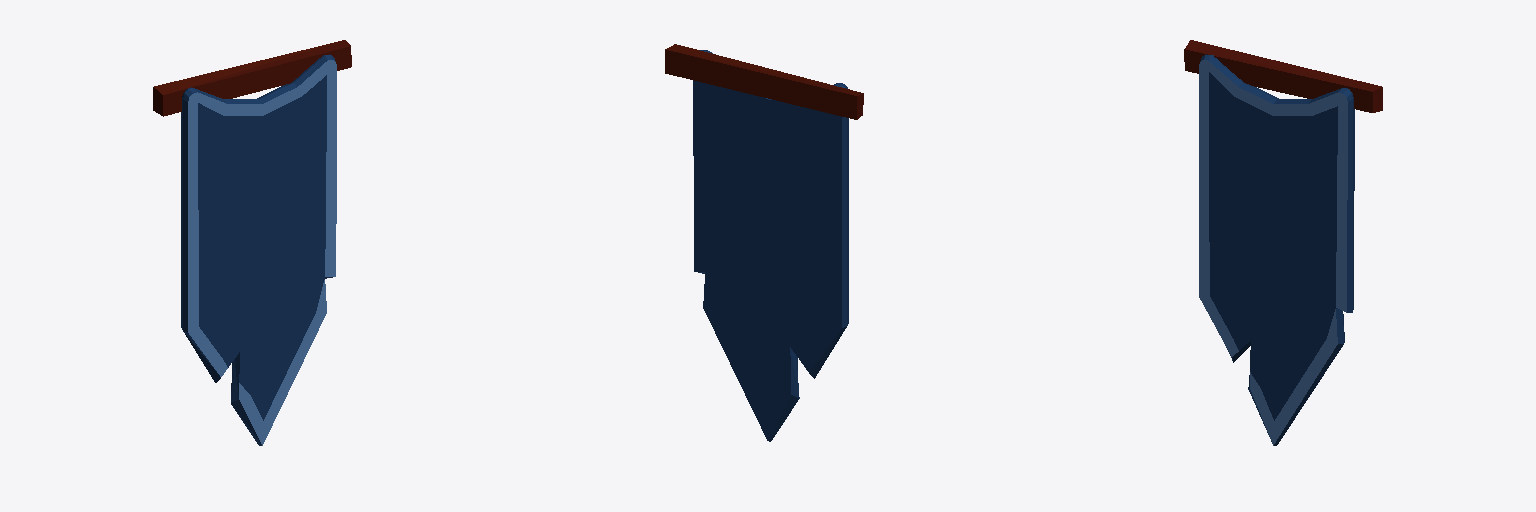
File: banner.obj
3 views of the same model, side by side, from view 1: azimuth 30°, elevation 25°; view 2: azimuth 150°, elevation 25°; view 3: azimuth 330°, elevation 25° (orthographic).
Parts seen in each view (by area): view 1: banner_Plane.004; view 2: banner_Plane.004; view 3: banner_Plane.004.
Part boxes in pixels (x1,y1,x2,y2): banner_Plane.004: (153, 40, 351, 445); banner_Plane.004: (665, 44, 863, 441); banner_Plane.004: (1184, 40, 1382, 445).
Bounding box in the file's own units: 1.4 × 2.61 × 0.1674.